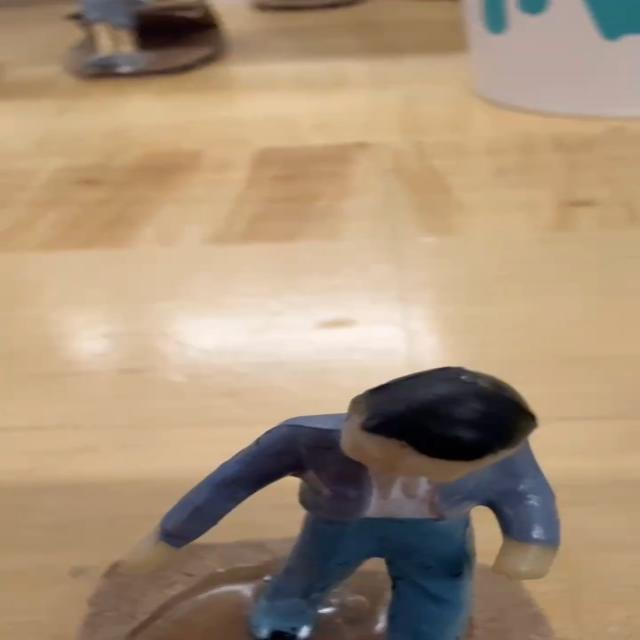Authorized: (137, 327, 609, 640)
